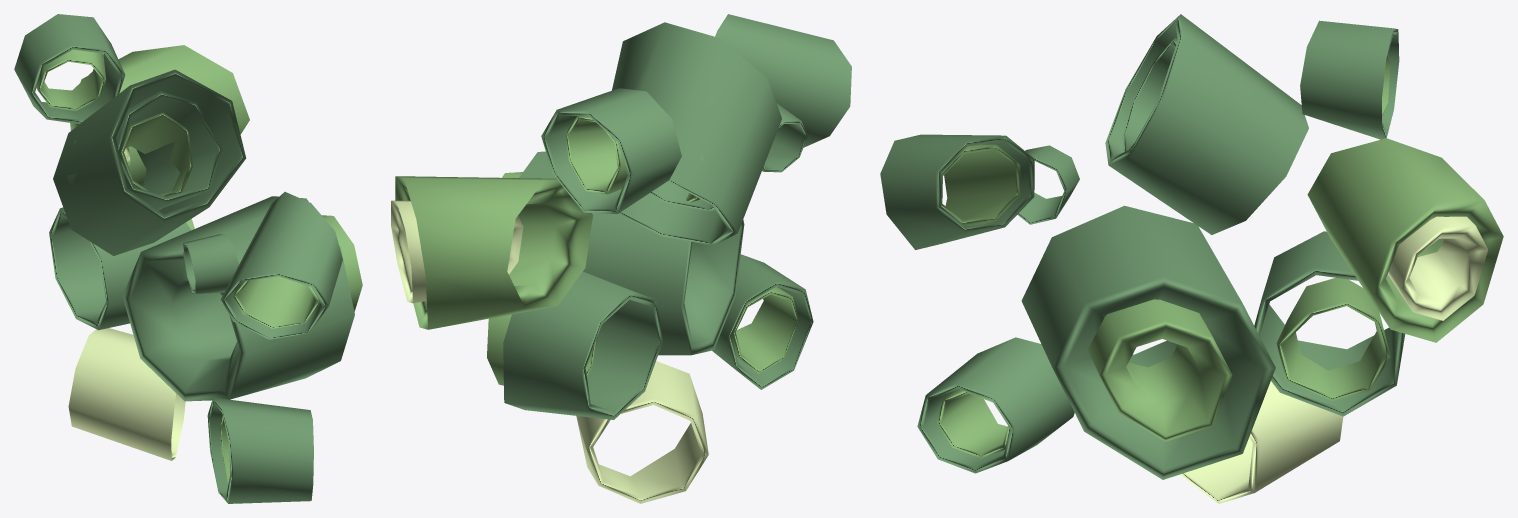
The model's file is Chive.fbx.
3 views of the same model, side by side, from view 1: azimuth 30°, elevation 25°; view 2: azimuth 150°, elevation 25°; view 3: azimuth 270°, elevation 25° (orthographic). The views are drawn at different scales.
Visible parts, largest first — view 1: chive1; view 2: chive1; view 3: chive1.
Boxes of the visible parts, bbox=[...] form: chive1: bbox=[14, 14, 362, 503]; chive1: bbox=[391, 14, 851, 503]; chive1: bbox=[880, 14, 1503, 503].
Bounding box in the file's own units: 23.28 × 37 × 45.5.
